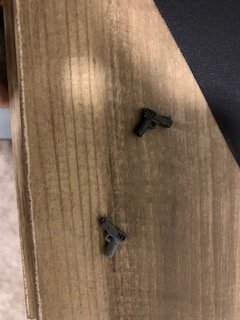pistol: (92, 214, 131, 261), (131, 105, 175, 142)
